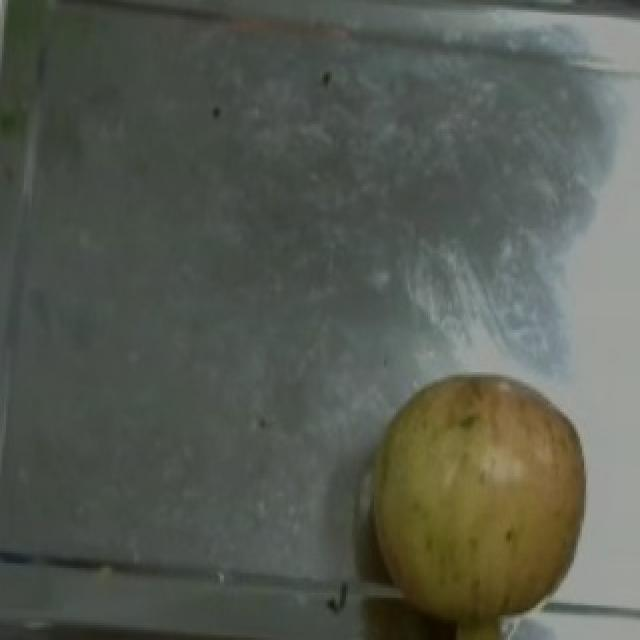fruit: (352, 352, 614, 578)
